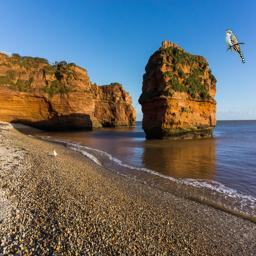Cuckoo: (225, 30, 245, 65)
